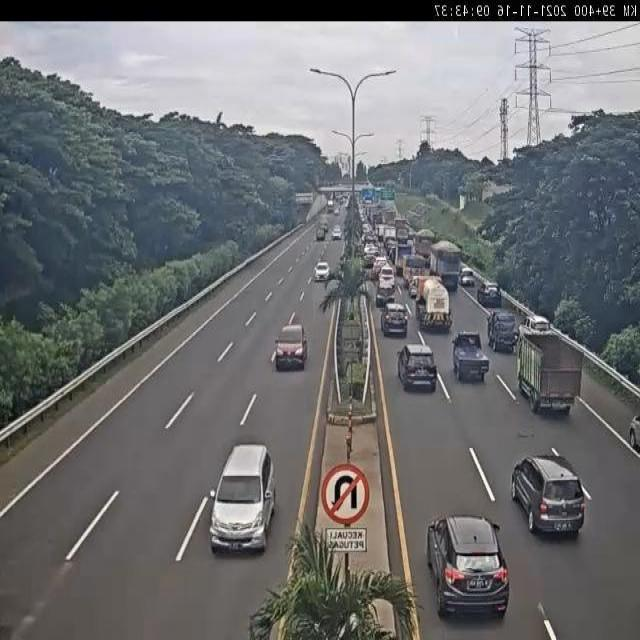Car: (426, 514, 511, 620), (511, 452, 585, 536), (397, 343, 438, 392), (274, 323, 308, 372), (380, 304, 409, 339), (477, 282, 502, 306), (314, 262, 331, 281)
Truck: (517, 320, 582, 415), (415, 278, 451, 333), (452, 332, 489, 382), (430, 241, 461, 292), (487, 310, 516, 352), (402, 253, 428, 293)
Van: (208, 445, 276, 552)
